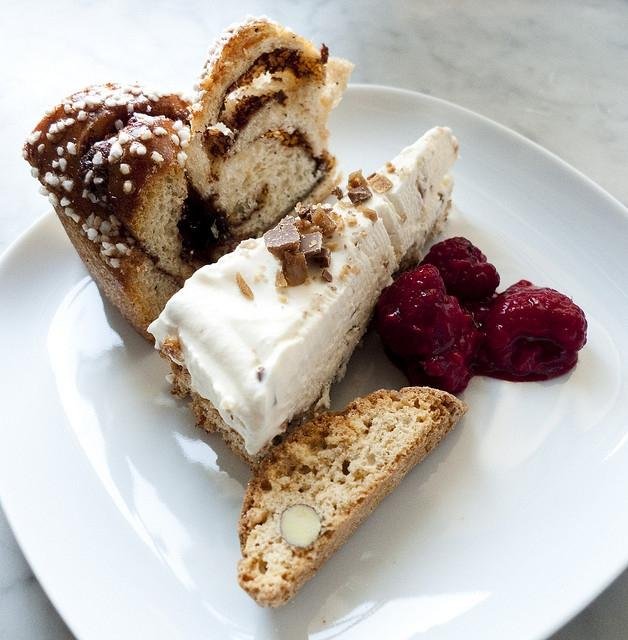raspberry: (474, 280, 588, 380), (378, 264, 462, 356), (419, 237, 501, 304), (419, 353, 472, 396)
